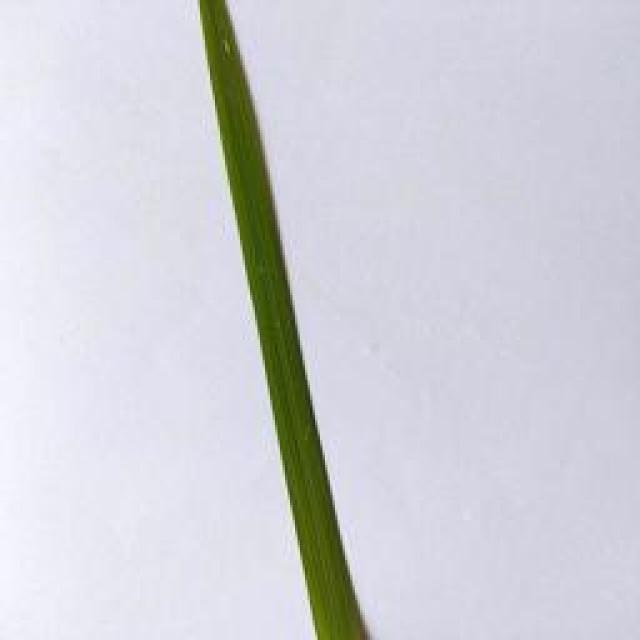Healthy-Plant: (212, 62, 370, 640)
